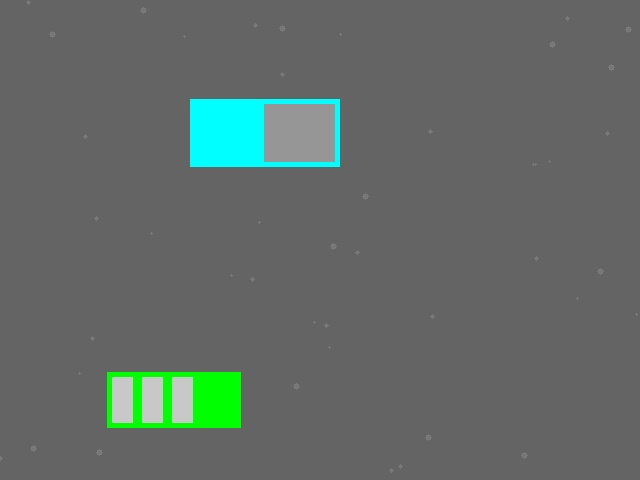bus: (107, 372, 240, 427)
truck: (190, 99, 339, 166)
